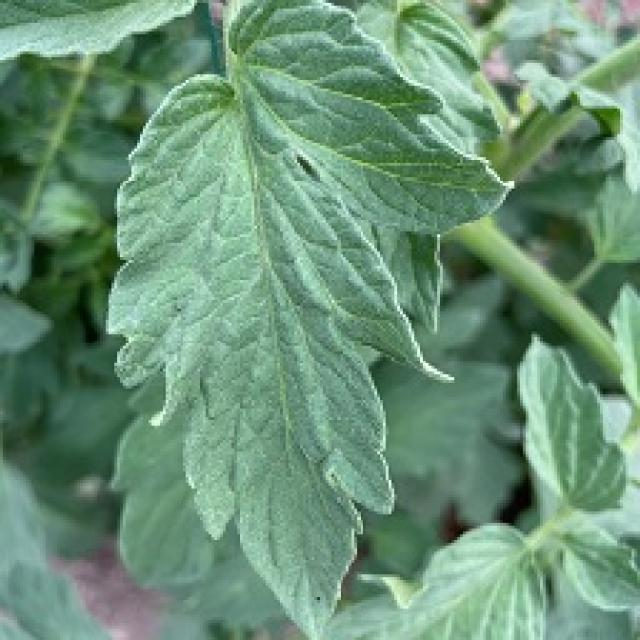Healthy: (0, 0, 559, 640)
